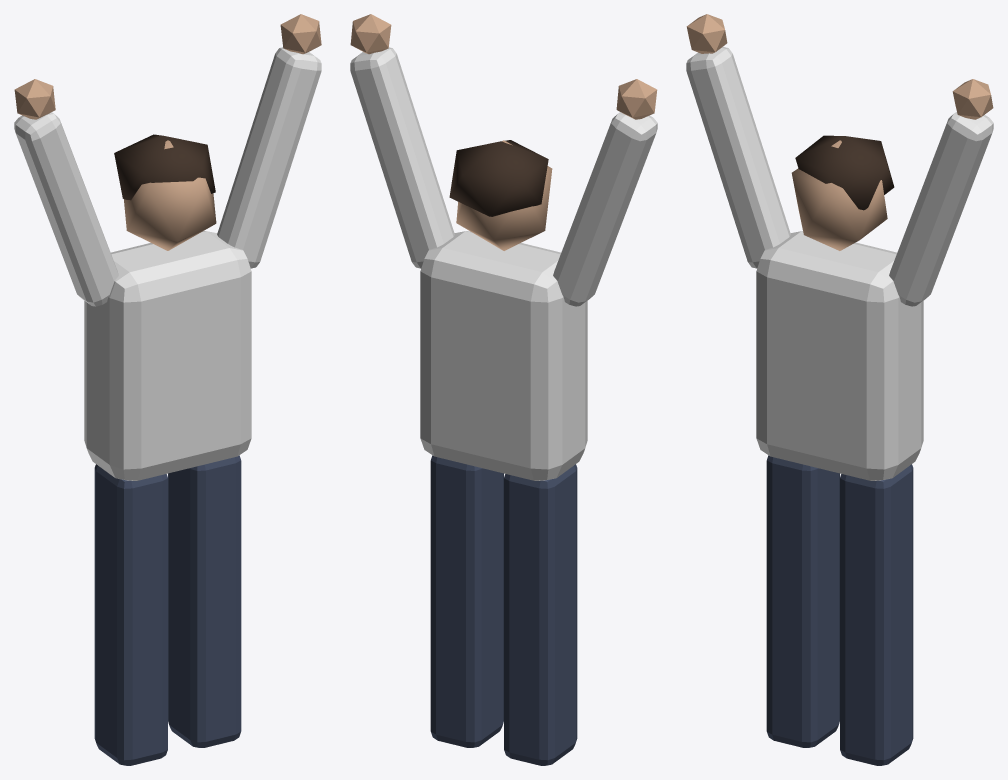
The model's file is person_b.glb.
3 renders of one model, left to right at view 1: azimuth 30°, elevation 25°; view 2: azimuth 150°, elevation 25°; view 3: azimuth 330°, elevation 25°, orthographic.
Visible parts, largest first — view 1: person_b; view 2: person_b; view 3: person_b.
Part boxes in pixels (x1=…): person_b: x1=14, y1=14, x2=321, y2=765; person_b: x1=350, y1=14, x2=657, y2=765; person_b: x1=686, y1=14, x2=993, y2=765.
Bounding box in the file's own units: 0.9077 × 2.01 × 0.2677.
